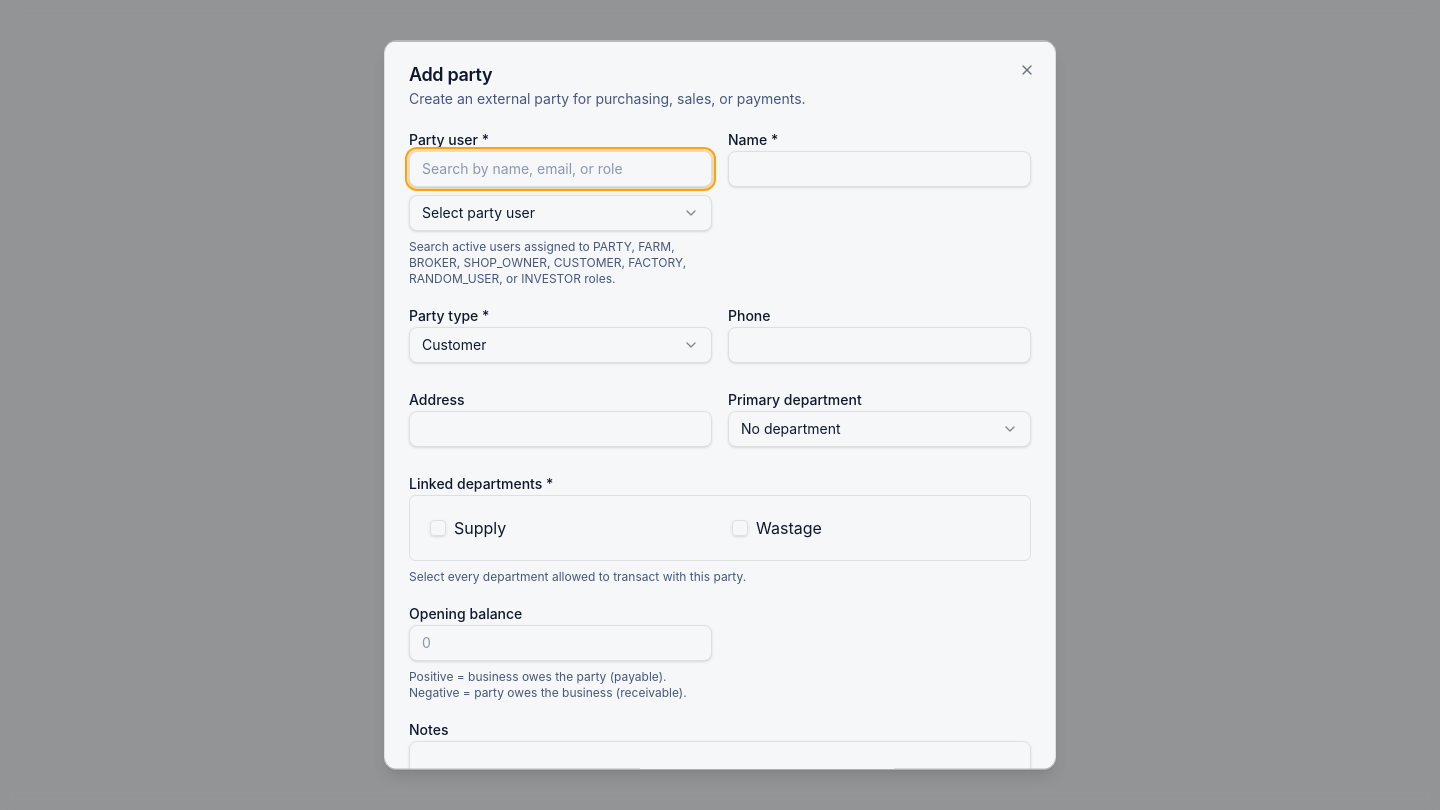
Test: PartyFormDialog › shows a validation error for an invalid opening balance
The image size is (1440, 810).
Type "Test Party" into the field labelled "Name *" at {"x": 880, "y": 168}, box [728,150,1031,186]
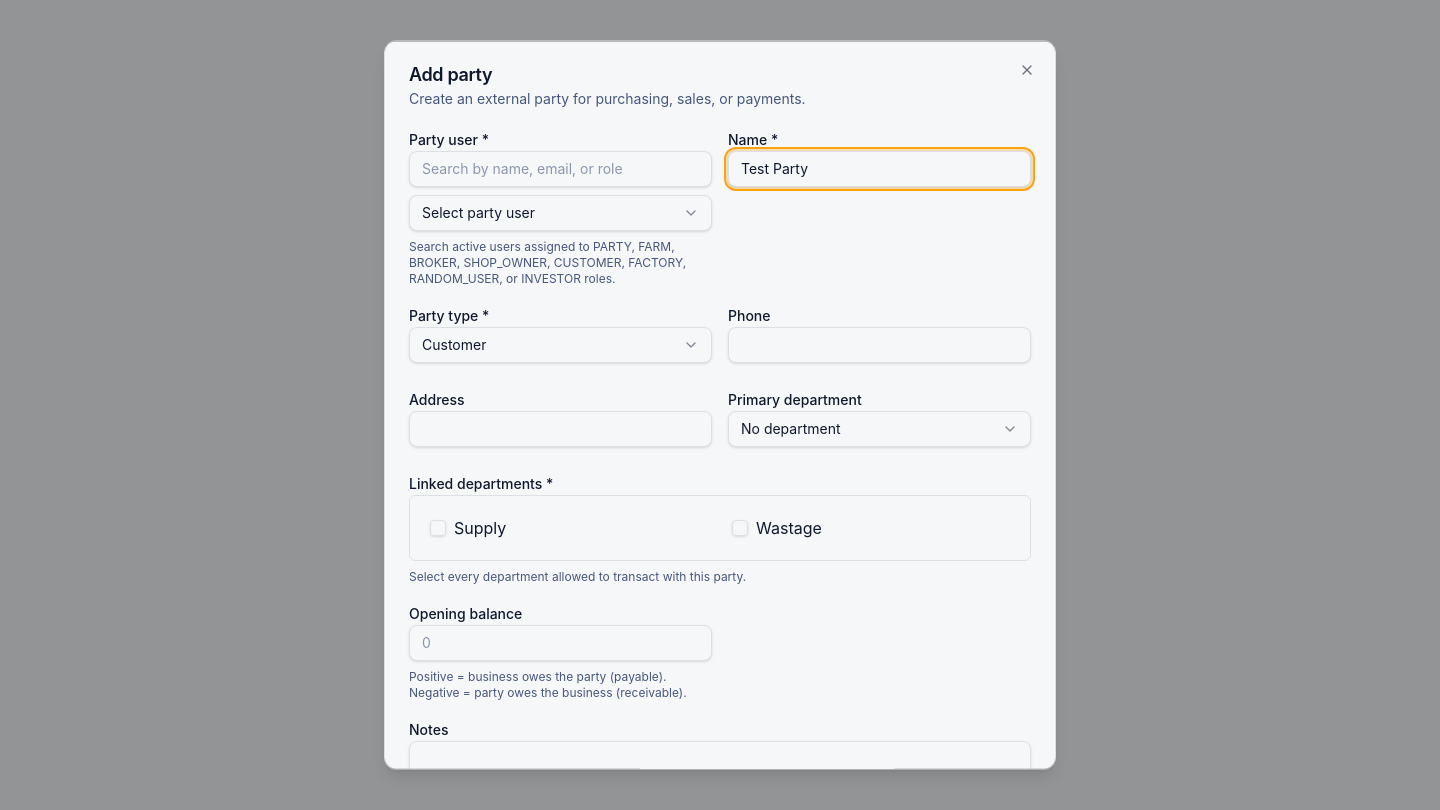
Type "1.234" into the number field labelled "Opening balance" at {"x": 560, "y": 642}, box [409,624,712,660]
(page scrolled)
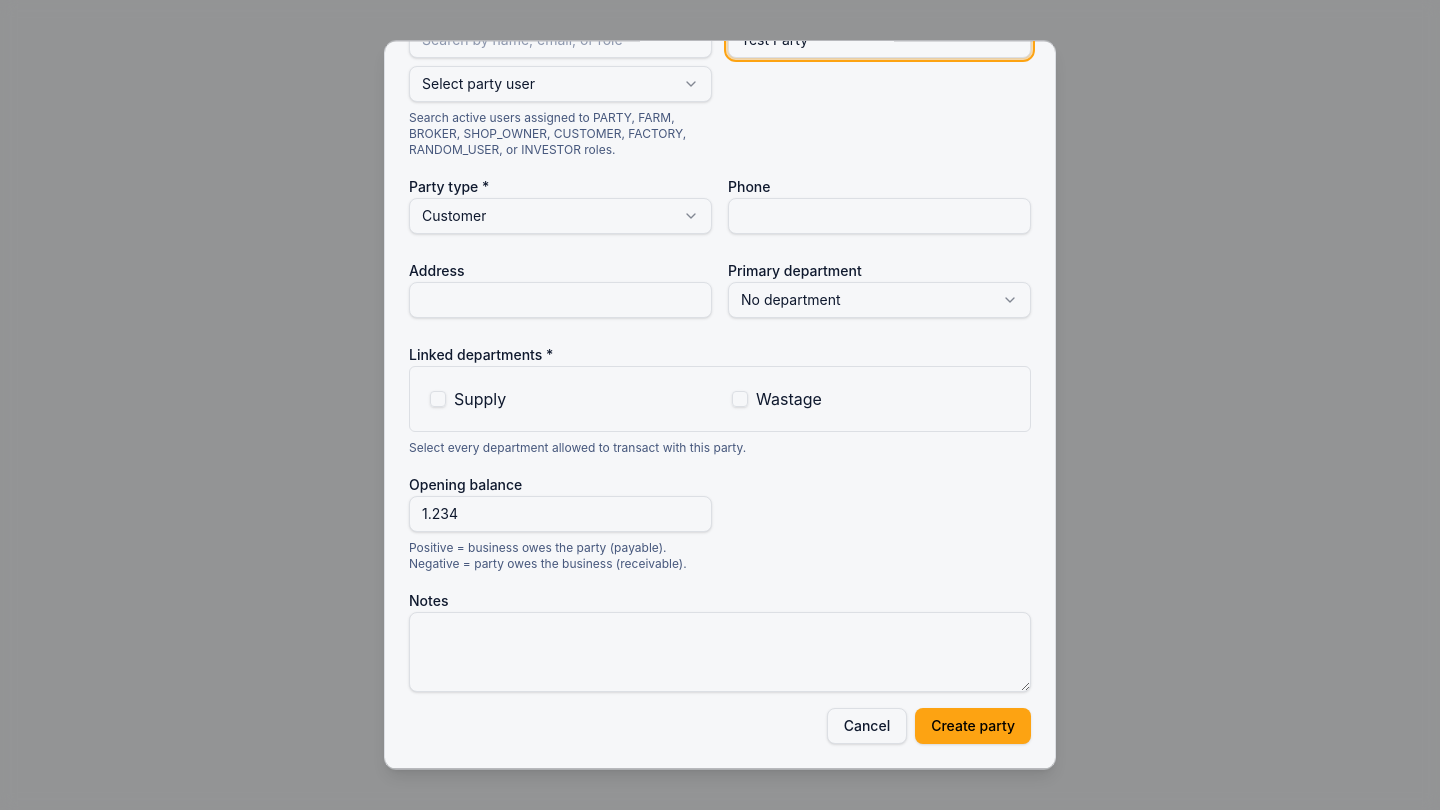
Click the button "Create party" at {"x": 973, "y": 726}, box [915,708,1031,744]
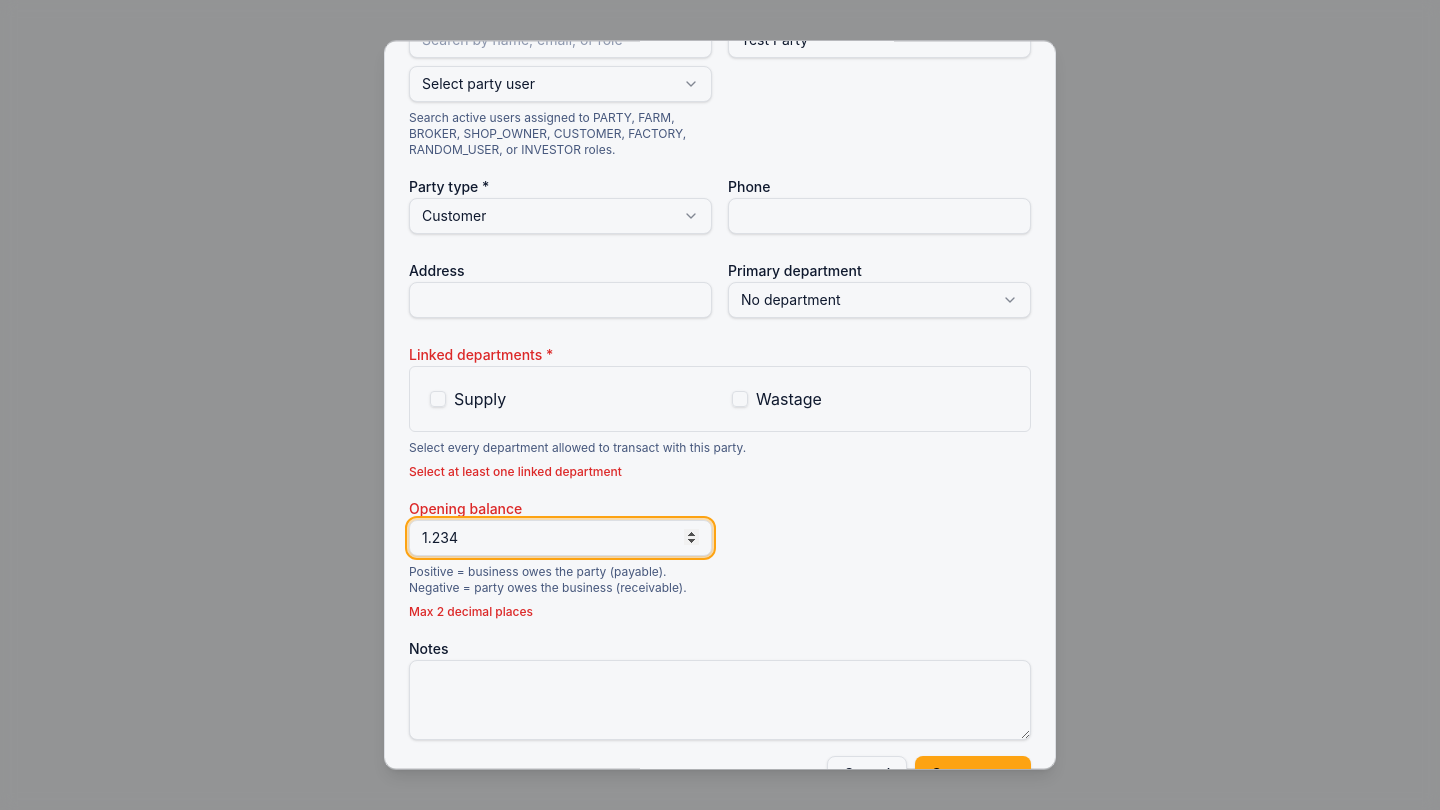
Now the text "Max 2 decimal places" is shown, box [409,604,533,619]
